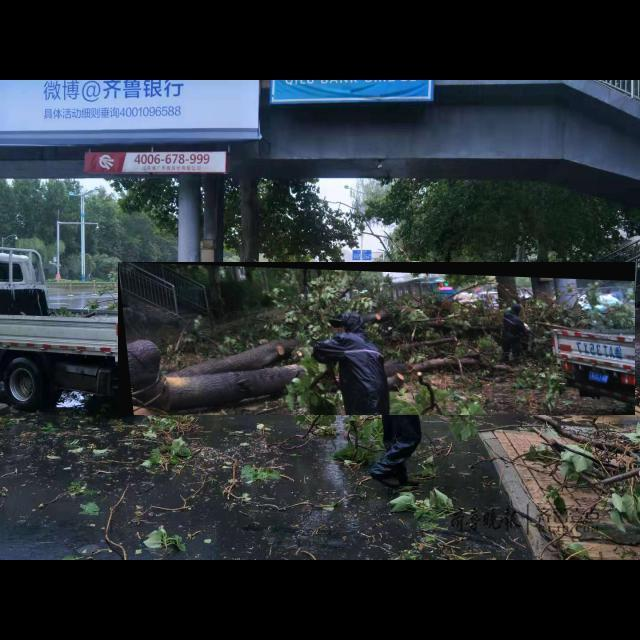fallen_tree: (118, 262, 636, 416)
